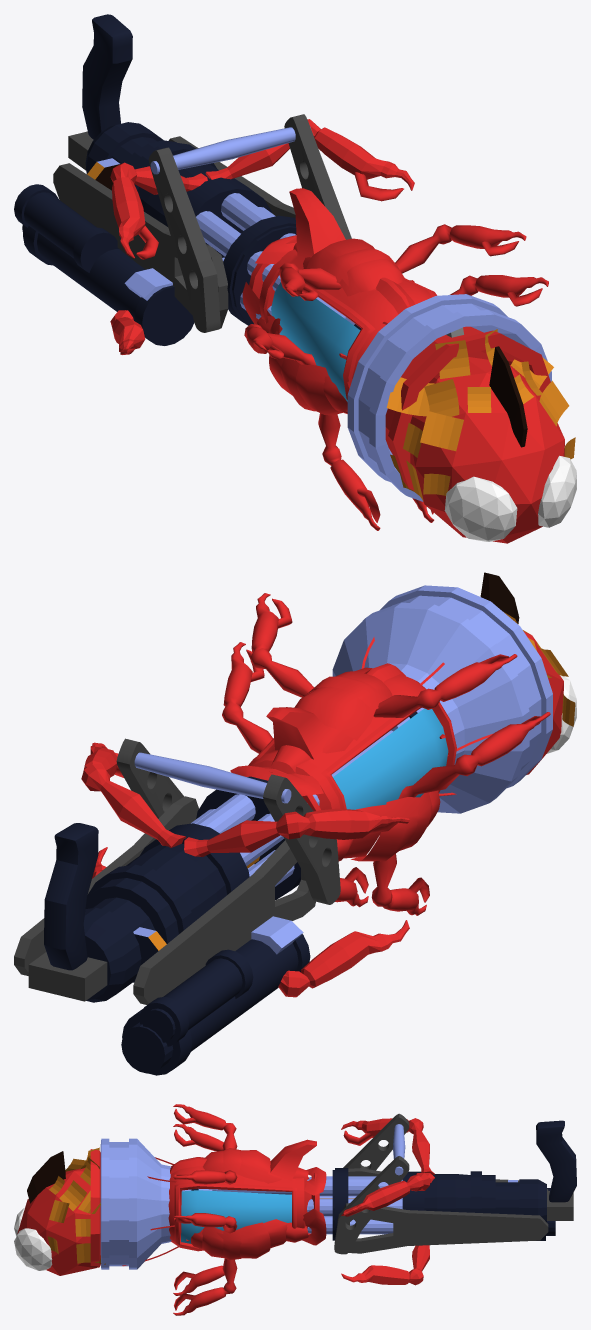
Rendered from Weapon_Mitrailleuse.fbx.
3 views of the same model, one above another, from view 1: azimuth 30°, elevation 25°; view 2: azimuth 150°, elevation 25°; view 3: azimuth 270°, elevation 25° (orthographic). The views are drawn at different scales.
Visible parts, largest first — view 1: Mitrailleuse, Module_Explosif, Module_Ideal, Module_Rebondissant, Module_Gros_Projectile; view 2: Mitrailleuse, Module_Ideal, Module_Explosif, Module_Rebondissant; view 3: Mitrailleuse, Module_Explosif, Module_Ideal, Module_Rebondissant, Module_Gros_Projectile.
Boxes of the visible parts, x1,y1,x2,y2 form: Mitrailleuse: [14, 14, 361, 345]; Module_Explosif: [345, 294, 576, 543]; Module_Ideal: [110, 119, 548, 530]; Module_Rebondissant: [249, 188, 436, 413]; Module_Gros_Projectile: [385, 326, 550, 490]; Mitrailleuse: [14, 711, 417, 1075]; Module_Ideal: [81, 593, 550, 997]; Module_Explosif: [332, 572, 576, 813]; Module_Rebondissant: [248, 663, 456, 811]; Mitrailleuse: [191, 1113, 576, 1254]; Module_Explosif: [14, 1138, 212, 1275]; Module_Ideal: [122, 1104, 434, 1315]; Module_Rebondissant: [168, 1139, 319, 1251]; Module_Gros_Projectile: [90, 1149, 354, 1267].
Bounding box in the file's own units: 72.92 × 69.83 × 193.
